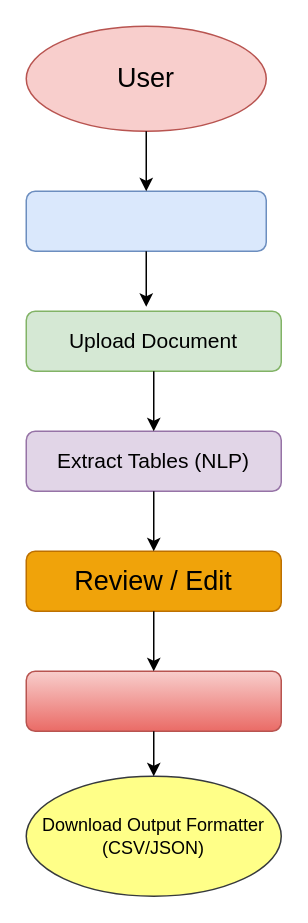
This 308x923 diagram has some shape labels left out. Each missing label, with the box of its shape:
Export (CSV/JSON): (25, 670, 281, 731)
Streamlit UI: (25, 190, 266, 251)
